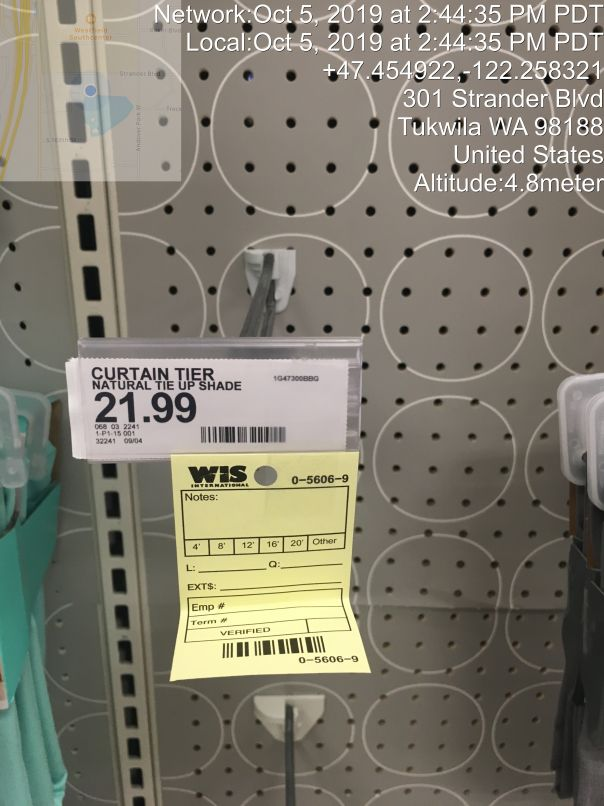Label: (61, 341, 357, 462)
Location: (387, 82, 604, 169)
Time: (147, 2, 604, 58)
Void: (76, 470, 326, 782)
